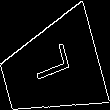L_W: (28, 47, 74, 92)
